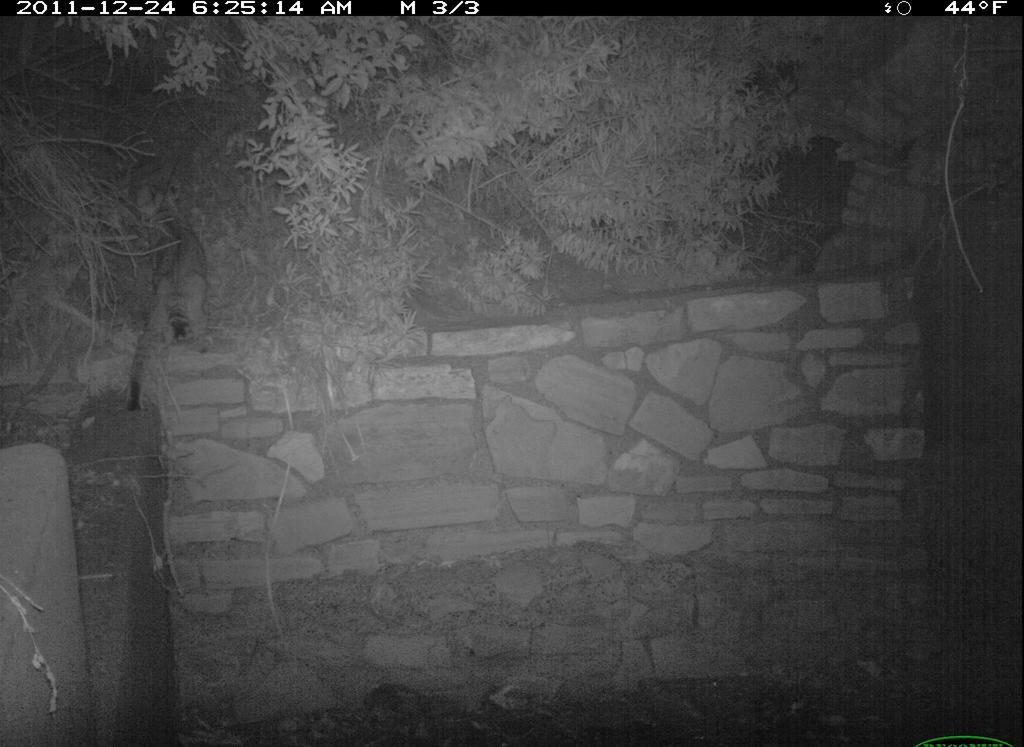bobcat: (116, 205, 232, 415)
